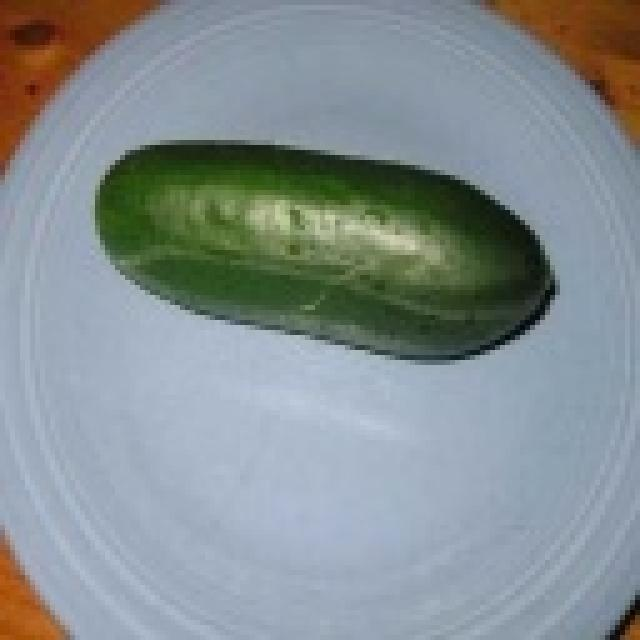Cucumber: (94, 129, 559, 363)
